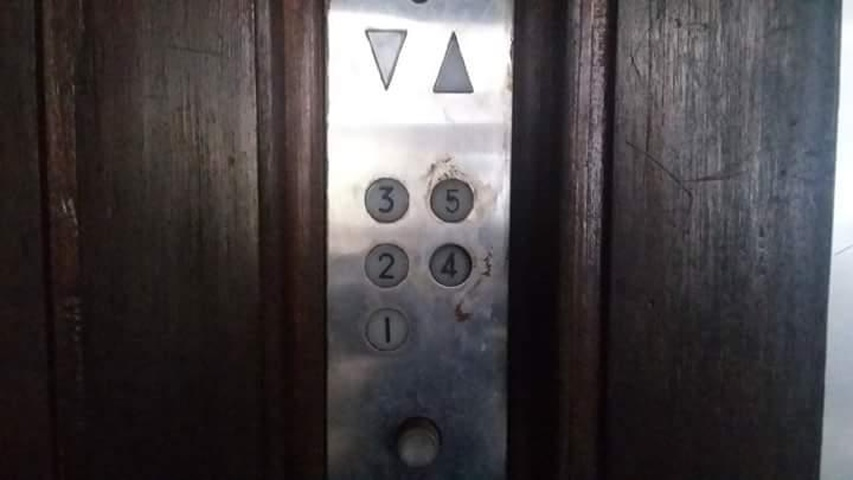1: (365, 307, 408, 350)
2: (365, 245, 410, 287)
3: (364, 177, 410, 224)
4: (428, 243, 473, 287)
5: (428, 176, 476, 225)
empty: (391, 414, 446, 471)
